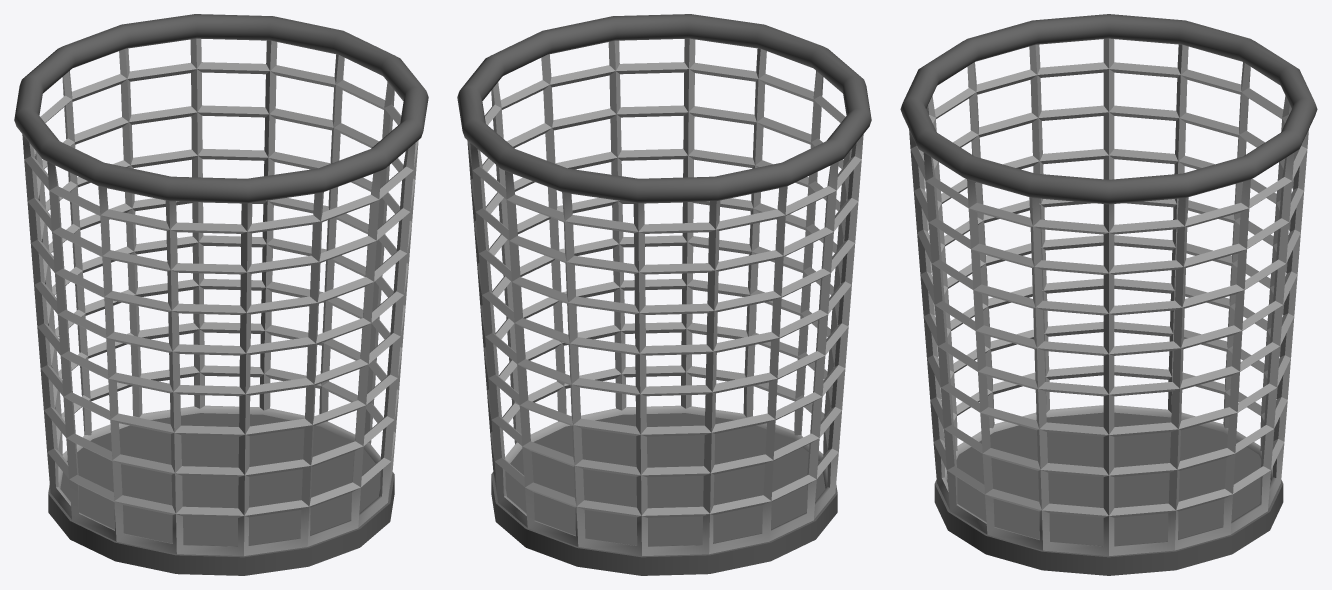
Rendered from Dustbin.fbx.
The picture shows the model from 3 angles, left to right: view 1: azimuth 30°, elevation 25°; view 2: azimuth 150°, elevation 25°; view 3: azimuth 270°, elevation 25°; orthographic projection.
Visible parts, largest first — view 1: Dustbin; view 2: Dustbin; view 3: Dustbin.
Part boxes in pixels (x1=…): Dustbin: x1=14, y1=14, x2=428, y2=575; Dustbin: x1=457, y1=14, x2=871, y2=575; Dustbin: x1=900, y1=14, x2=1317, y2=575.
Size of the model in its own units: 0.2744 by 0.2744 by 0.2932.
